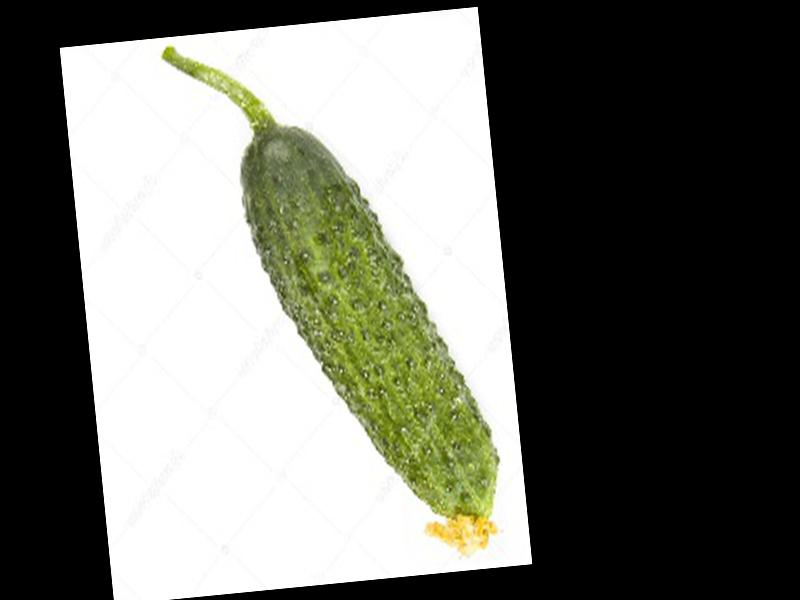Cucumber: (162, 19, 509, 583)
